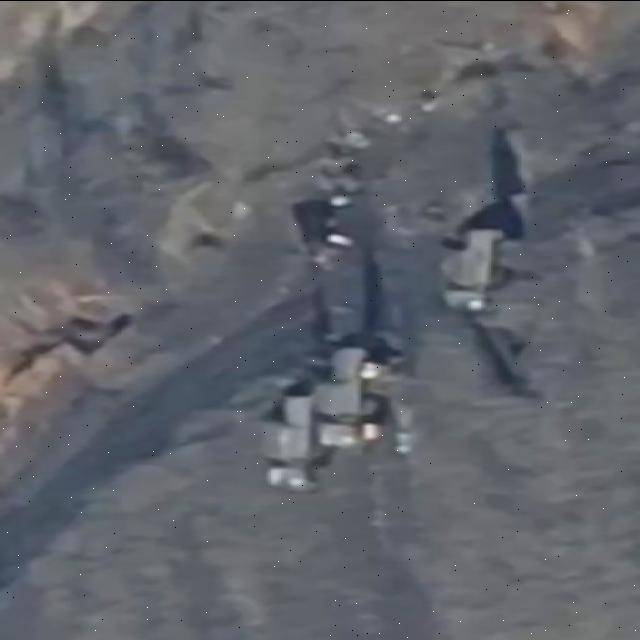TRUCK: (314, 344, 394, 448), (432, 224, 518, 312), (255, 390, 317, 491)
